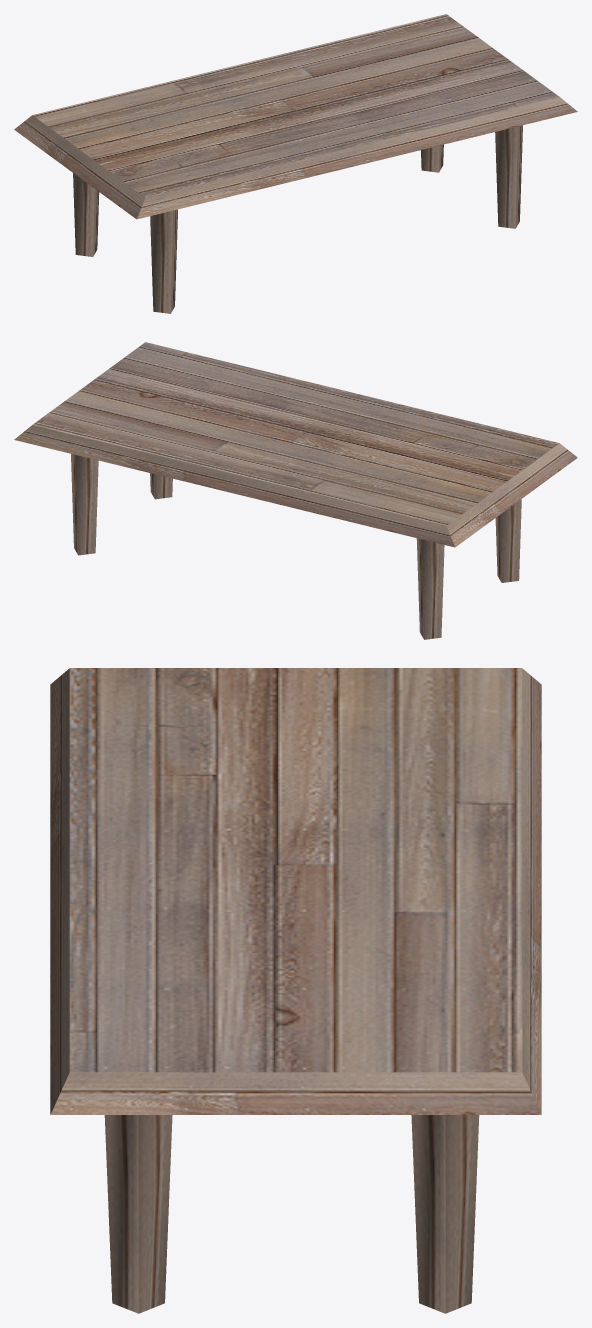
The model's file is mesa.glb.
The picture shows the model from 3 angles, top to bottom: view 1: azimuth 30°, elevation 25°; view 2: azimuth 150°, elevation 25°; view 3: azimuth 270°, elevation 25°; orthographic projection. The views are drawn at different scales.
Visible parts, largest first — view 1: Modelo; view 2: Modelo; view 3: Modelo.
Boxes of the visible parts, x1,y1,x2,y2 form: Modelo: (14,14,577,313); Modelo: (14,342,577,639); Modelo: (50,668,541,1313).
Bounding box in the file's own units: 2.44 × 0.6963 × 1.18.
1 material, 1 textured.
